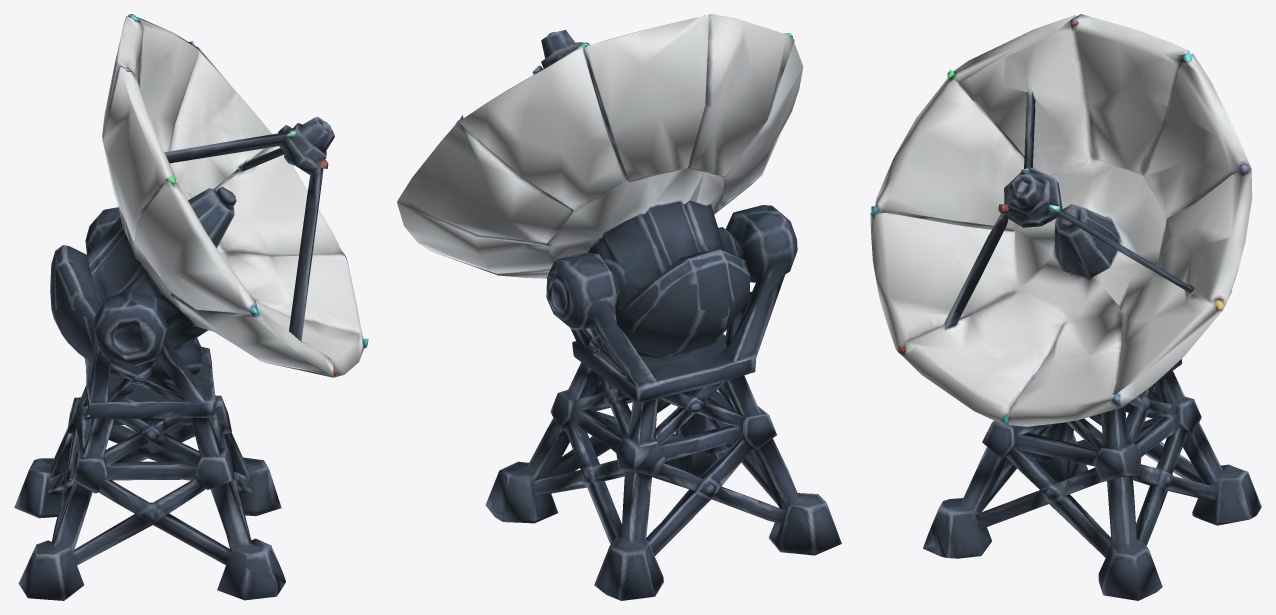
Rendered from prop_star_dish.glb.
3 views of the same model, side by side, from view 1: azimuth 30°, elevation 25°; view 2: azimuth 150°, elevation 25°; view 3: azimuth 270°, elevation 25° (orthographic). The views are drawn at different scales.
Visible parts, largest first — view 1: tripo_node_6ea999c6-8a7c-45ed-a110-f4b855688124; view 2: tripo_node_6ea999c6-8a7c-45ed-a110-f4b855688124; view 3: tripo_node_6ea999c6-8a7c-45ed-a110-f4b855688124.
Boxes of the visible parts, <box> form: tripo_node_6ea999c6-8a7c-45ed-a110-f4b855688124: <box>14,14,368,600</box>; tripo_node_6ea999c6-8a7c-45ed-a110-f4b855688124: <box>397,14,841,600</box>; tripo_node_6ea999c6-8a7c-45ed-a110-f4b855688124: <box>870,14,1261,600</box>.
Bounding box in the file's own units: 0.7368 × 0.9778 × 0.6992.
Materials: 1 (1 with a texture image).
